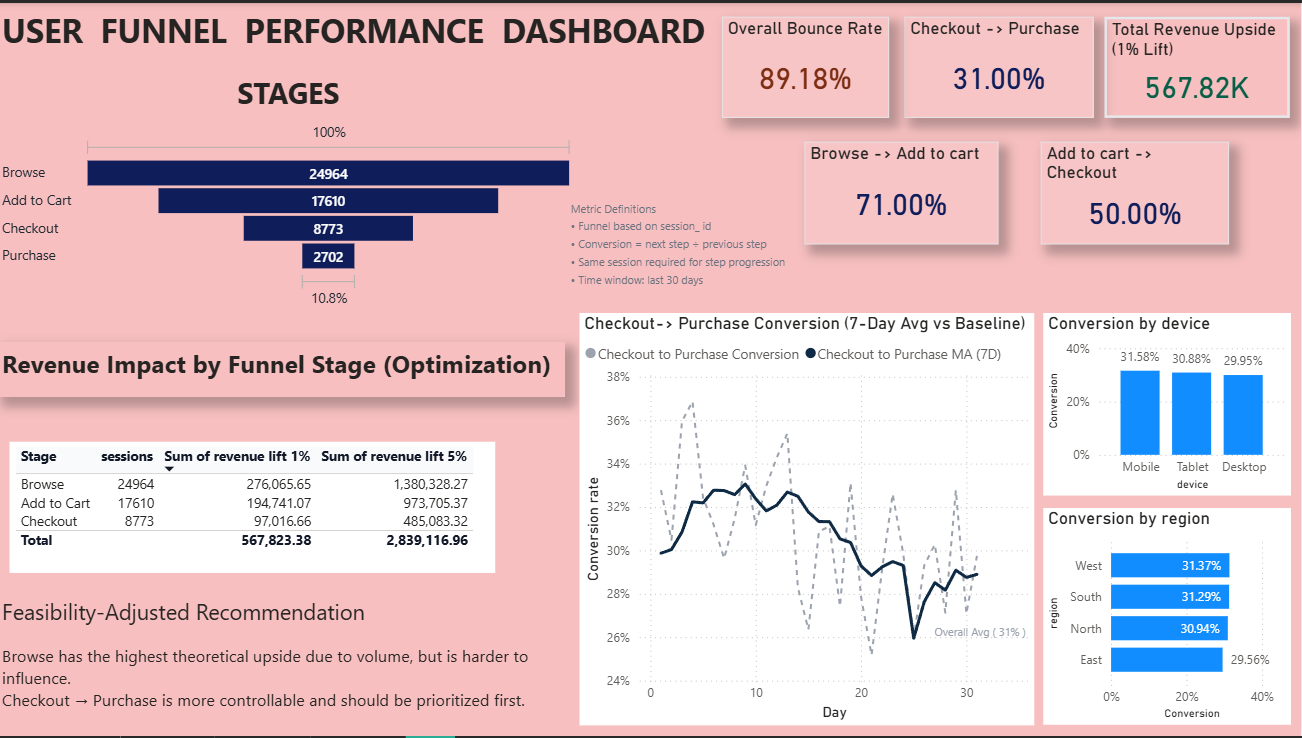

The dashboard page shown, as its layout file describes it:
{"tool":"powerbi","page":{"name":"Page 1","canvas":[1280,720],"ordinal":0},"visuals":[{"type":"funnel","title":"STAGES ","fields":{"Category":["public funnel_summary.event"],"Y":["Sum(public funnel_summary.sessions)"]},"box":[0,68.7,571.8,234.4],"z":0},{"type":"textbox","box":[0,0,704.3,68.7],"z":1000},{"type":"card","title":"Checkout -> Purchase","fields":{"Values":["Sum(public funnel_summary.conversion_rate)"]},"box":[890.6,13.6,186,99.1],"z":2000},{"type":"card","title":"Overall Bounce Rate","fields":{"Values":["Sum(public overall_bounce_rate.bounce_rate)"]},"box":[711.4,13.6,164.3,99.1],"z":3000},{"type":"textbox","box":[0,332.6,558,54.3],"z":4000},{"type":"tableEx","fields":{"Values":["public funnel_impact.funnel_step","public funnel_impact.sessions","Sum(public funnel_impact.revenue_lift_1pct)","Sum(public funnel_impact.revenue_lift_5pct)"]},"box":[12.2,430.4,476.5,129],"z":5000},{"type":"card","title":"Total Revenue Upside (1% Lift)","fields":{"Values":["Sum(public funnel_impact.revenue_lift_1pct)"]},"box":[1087.5,13.6,181.9,99.1],"z":6000},{"type":"textbox","box":[0,577.9,533.7,142.3],"z":7000},{"type":"lineChart","title":"Checkout-> Purchase Conversion (7-Day Avg vs Baseline)","fields":{"Category":["public funnel_events.event_date.Variation.Date Hierarchy.Day"],"Y":["public funnel_events.Checkout to Purchase Conversion","public funnel_events.Checkout to Purchase MA (7D)"]},"box":[571.6,304.1,446.7,404.6],"z":8000},{"type":"clusteredColumnChart","title":"Conversion by device","fields":{"Y":["public funnel_events.Checkout to Purchase Conversion"],"Category":["public funnel_events.device"]},"box":[1026.4,304.1,243,179.2],"z":9000},{"type":"textbox","box":[558.3,186.5,220.9,119],"z":10000},{"type":"clusteredBarChart","fields":{"Y":["public funnel_events.Checkout to Purchase Conversion"],"Category":["public funnel_events.region"]},"box":[1026.4,495.5,243,213.2],"z":11000},{"type":"card","title":"Browse -> Add to cart","fields":{"Values":["Sum(public funnel_summary.conversion_rate)"]},"box":[792.9,135.8,190.1,100.5],"z":12000},{"type":"card","title":"Add to cart -> Checkout","fields":{"Values":["Sum(public funnel_summary.conversion_rate)"]},"box":[1025,135.8,184.6,100.5],"z":13000},{"type":"textbox","box":[915.1,602.8,111.3,33.9],"z":14000}]}

Visuals, with their boxes in screenshot pixels (x1, y1, x2, y2), scaled from the page's 1280x720 canvas onto the 1302x738 screenshot:
"STAGES " funnel: <box>0,70,582,311</box>
textbox: <box>0,0,716,70</box>
"Checkout -> Purchase" card: <box>906,14,1095,116</box>
"Overall Bounce Rate" card: <box>724,14,891,116</box>
textbox: <box>0,341,568,397</box>
tableEx - public funnel_impact.funnel_step x public funnel_impact.sessions: <box>12,441,497,573</box>
"Total Revenue Upside (1% Lift)" card: <box>1106,14,1291,116</box>
textbox: <box>0,592,543,737</box>
"Checkout-> Purchase Conversion (7-Day Avg vs Baseline)" lineChart: <box>581,312,1036,726</box>
"Conversion by device" clusteredColumnChart: <box>1044,312,1291,495</box>
textbox: <box>568,191,793,313</box>
clusteredBarChart - public funnel_events.Checkout to Purchase Conversion x public funnel_events.region: <box>1044,508,1291,726</box>
"Browse -> Add to cart" card: <box>807,139,1000,242</box>
"Add to cart -> Checkout" card: <box>1043,139,1230,242</box>
textbox: <box>931,618,1044,653</box>
